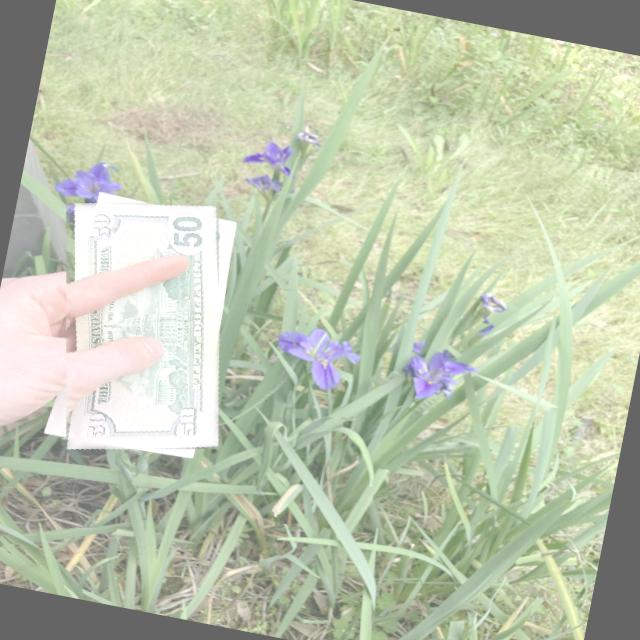fifty: (66, 203, 224, 453)
